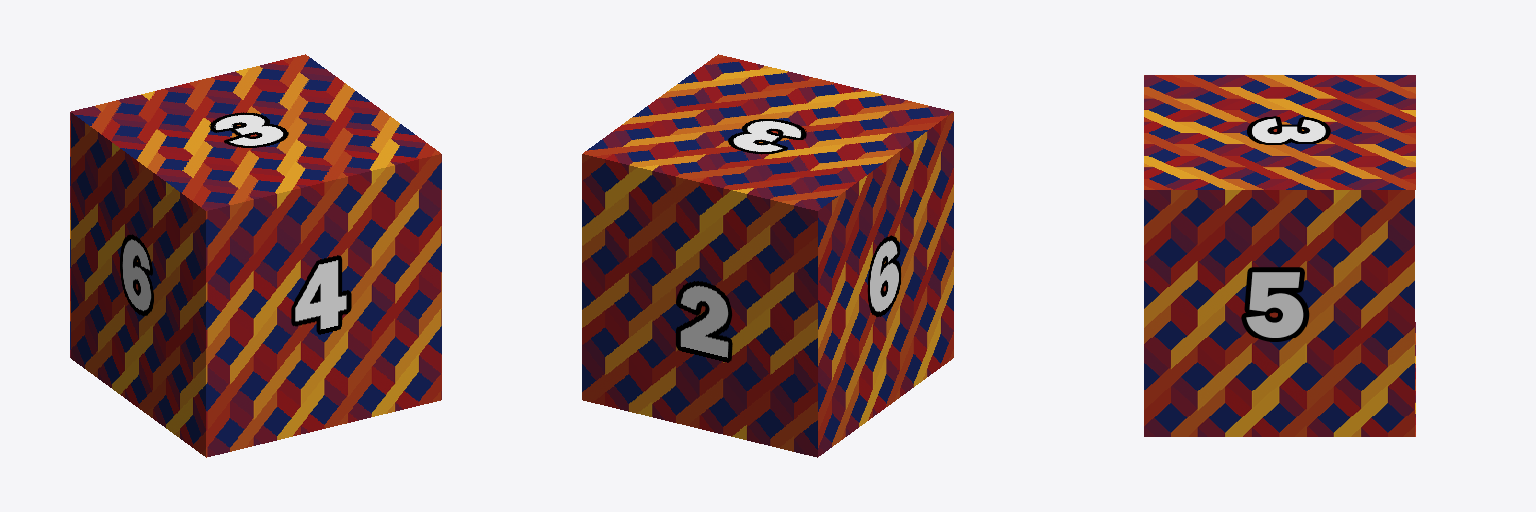
3 views of the same model, side by side, from view 1: azimuth 30°, elevation 25°; view 2: azimuth 150°, elevation 25°; view 3: azimuth 270°, elevation 25° (orthographic).
Visible parts, largest first — view 1: pCube1; view 2: pCube1; view 3: pCube1.
Part boxes in pixels (x1,y1,x2,y2): pCube1: (70,54,441,457); pCube1: (582,54,953,457); pCube1: (1144,75,1415,436).
Size of the model in its own units: 1 by 1 by 1.
Materials: 1 (1 with a texture image).